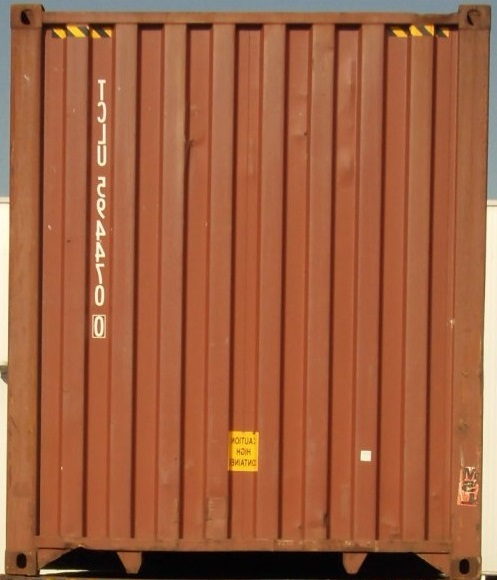container_no_door: (6, 8, 485, 575)
